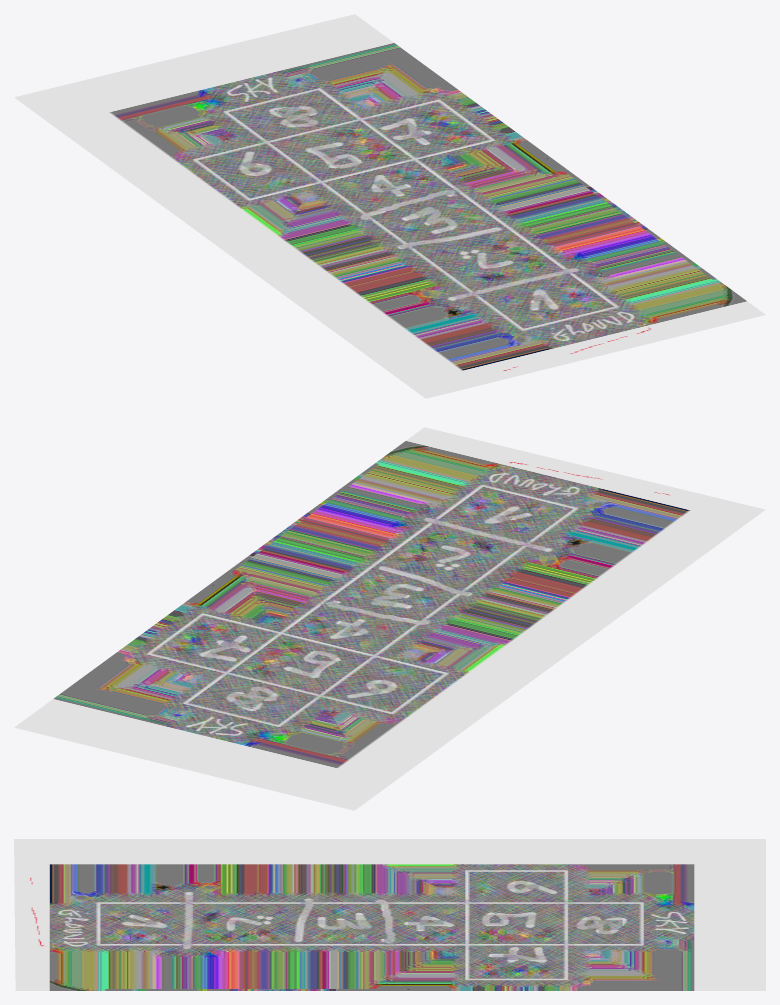
The model's file is DecaleI.FBX.
3 renders of one model, top to bottom at view 1: azimuth 30°, elevation 25°; view 2: azimuth 150°, elevation 25°; view 3: azimuth 270°, elevation 25°, orthographic. The views are drawn at different scales.
Parts seen in each view (by area): view 1: DecaleA; view 2: DecaleA; view 3: DecaleA.
Boxes of the visible parts, <box> form: DecaleA: <box>14,14,765,398</box>; DecaleA: <box>14,427,765,810</box>; DecaleA: <box>14,839,765,990</box>.
Size of the model in its own units: 1.8 by 3.05e-07 by 3.76.
